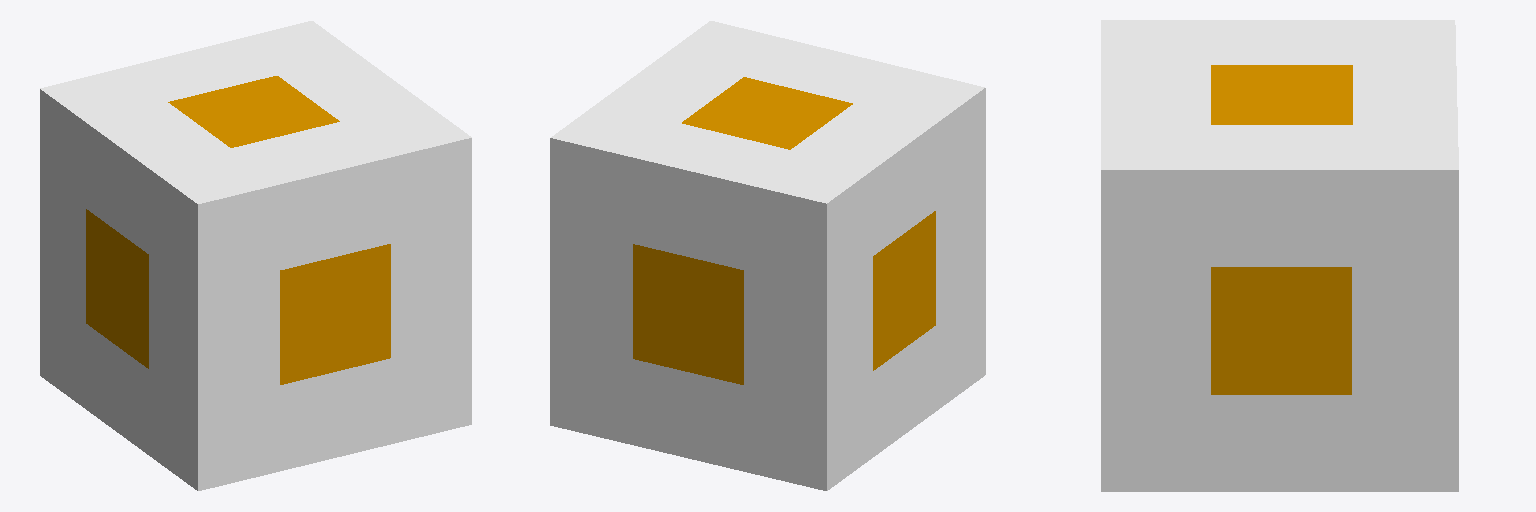
The robot description file, URDF, robot "cube":
<?xml version="1.0"?>

<robot name="cube">

<!-- Links -->
	<link name="cube_base_link">
		<visual>
      			<geometry>
				<mesh filename="package://bite_drive_between_targets/meshes/target2.dae"/>
                <!--mesh filename="package://bite_drive_between_targets/meshes/20x20CubeModel.dae"/-->
			</geometry>
		</visual>
		<collision>
      			<geometry>
        			<box size="1.0 1.0 0.001"/>
              <!--box size="1.0 1.0 0.001"/-->
      			</geometry>
    		</collision>
    		<inertial>
	      		<mass value="10"/>
      			<inertia ixx="1.0" ixy="0.0" ixz="0.0" iyy="1.0" iyz="0.0" izz="1.0"/>
    		</inertial>
	</link>

	<link name="cube_4x4_6_link">
    		<visual>
      			<geometry>
         			<box size="0.001 0.001 0.001"/>
      			</geometry>
      			<origin rpy="0 0 0" xyz="0 0 0"/>
    		</visual>
    		<inertial>
      			<mass value="0.0001"/>
      			<inertia ixx="1.0" ixy="0.0" ixz="0.0" iyy="1.0" iyz="0.0" izz="1.0"/>
    		</inertial>	
	</link>

	<link name="cube_4x4_7_link">
    		<visual>
      			<geometry>
         			<box size="0.001 0.001 0.001"/>
      			</geometry>
      			<origin rpy="0 0 0" xyz="0 0 0"/>
    		</visual>
    		<inertial>
      			<mass value="0.0001"/>
      			<inertia ixx="1.0" ixy="0.0" ixz="0.0" iyy="1.0" iyz="0.0" izz="1.0"/>
    		</inertial>	
	</link>
	
	<link name="cube_4x4_8_link">
    		<visual>
      			<geometry>
         			<box size="0.001 0.001 0.001"/>
      			</geometry>
      			<origin rpy="0 0 0" xyz="0 0 0"/>
    		</visual>
    		<inertial>
      			<mass value="0.0001"/>
      			<inertia ixx="1.0" ixy="0.0" ixz="0.0" iyy="1.0" iyz="0.0" izz="1.0"/>
    		</inertial>	
	</link>
	
		<link name="cube_4x4_9_link">
    		<visual>
      			<geometry>
         			<box size="0.001 0.001 0.001"/>
      			</geometry>
      			<origin rpy="0 0 0" xyz="0 0 0"/>
    		</visual>
    		<inertial>
      			<mass value="0.0001"/>
      			<inertia ixx="1.0" ixy="0.0" ixz="0.0" iyy="1.0" iyz="0.0" izz="1.0"/>
    		</inertial>	
	</link>
	
	<link name="cube_4x4_10_link">
    		<visual>
      			<geometry>
         			<box size="0.001 0.001 0.001"/>
      			</geometry>
      			<origin rpy="0 0 0" xyz="0 0 0"/>
    		</visual>
    		<inertial>
      			<mass value="0.0001"/>
      			<inertia ixx="1.0" ixy="0.0" ixz="0.0" iyy="1.0" iyz="0.0" izz="1.0"/>
    		</inertial>	
	</link>

<!-- Joints -->
	<joint name="cube_4x4_6_joint" type="fixed">
		<origin xyz="0 -0.5 0.5" />
    	<parent link="cube_base_link" />
    	<child link="cube_4x4_6_link" />
	</joint>

	<joint name="cube_4x4_7_joint" type="fixed">
		<origin xyz="-0.5 0 0.5" />
    	<parent link="cube_base_link" />
    	<child link="cube_4x4_7_link" />
	</joint>

	<joint name="cube_4x4_8_joint" type="fixed">
		<origin xyz="0 0.5 0.5" />
    	<parent link="cube_base_link" />
    	<child link="cube_4x4_8_link" />
	</joint>

	<joint name="cube_4x4_9_joint" type="fixed">
		<origin xyz="0.5 0 0.5" />
    	<parent link="cube_base_link" />
    	<child link="cube_4x4_9_link" />
	</joint>
	
	<joint name="cube_4x4_10_joint" type="fixed"><!--up-->
		<origin xyz="0 0 1" />
    	<parent link="cube_base_link" />
    	<child link="cube_4x4_10_link" />
	</joint>

<!-- Gazebo -->
	<gazebo reference="base_footprint_1">
    		<material>Gazebo/Blue</material>
	</gazebo>

  <gazebo>
    <plugin name="object_controller" filename="libgazebo_ros_planar_move.so">
      <commandTopic>cmd_vel</commandTopic>
      <odometryTopic>odom</odometryTopic>
      <odometryFrame>odom</odometryFrame>
      <odometryRate>20.0</odometryRate>
      <frameName>world</frameName>
      <robotBaseFrame>cube_base_link</robotBaseFrame>
    </plugin>
  </gazebo>

</robot> <!--end robot "cube -->

--- Render facts (derived) ---
3 views of the same robot in one strip: view 1: azimuth 30°, elevation 25°; view 2: azimuth 150°, elevation 25°; view 3: azimuth 270°, elevation 25° (orthographic).
Robot: cube — 6 links, 5 joints (5 fixed); root link cube_base_link; default pose: all joints at 0.
Links seen in each view (by area): view 1: cube_base_link; view 2: cube_base_link; view 3: cube_base_link.
Link boxes in pixels (left/top/right/bottom): cube_base_link: left=40, top=21, right=471, bottom=490; cube_base_link: left=550, top=21, right=985, bottom=490; cube_base_link: left=1101, top=20, right=1458, bottom=491.
Size in the robot's own frame: 1 by 1.01 by 1 metres.
1 mesh visuals loaded from 1 distinct referenced files (1 Collada DAE).